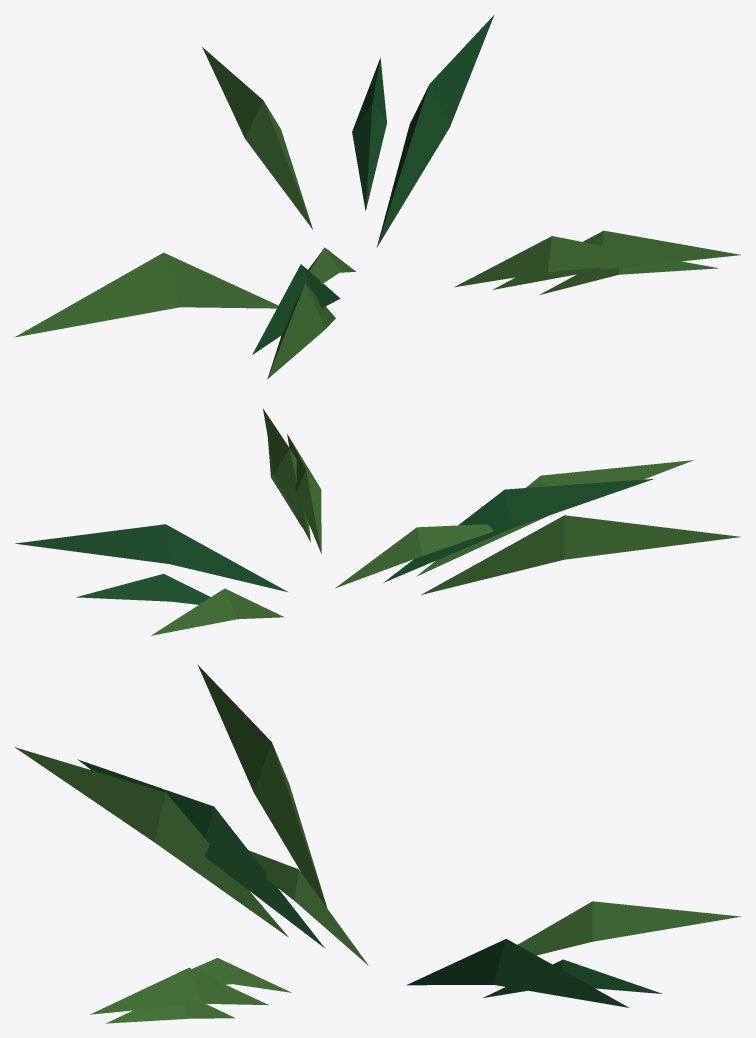
File: Tufo_de_grama_LOD1.fbx
The picture shows the model from 3 angles, top to bottom: view 1: azimuth 30°, elevation 25°; view 2: azimuth 150°, elevation 25°; view 3: azimuth 270°, elevation 25°; orthographic projection. The views are drawn at different scales.
Visible parts, largest first — view 1: Tufo_de_grama_LOD1; view 2: Tufo_de_grama_LOD1; view 3: Tufo_de_grama_LOD1.
Part boxes in pixels (x1=…): Tufo_de_grama_LOD1: x1=14, y1=14, x2=740, y2=379; Tufo_de_grama_LOD1: x1=15, y1=409, x2=740, y2=635; Tufo_de_grama_LOD1: x1=14, y1=665, x2=740, y2=1023.
Size of the model in its own units: 116 by 18.36 by 109.
Materials: 1 (1 with a texture image).
